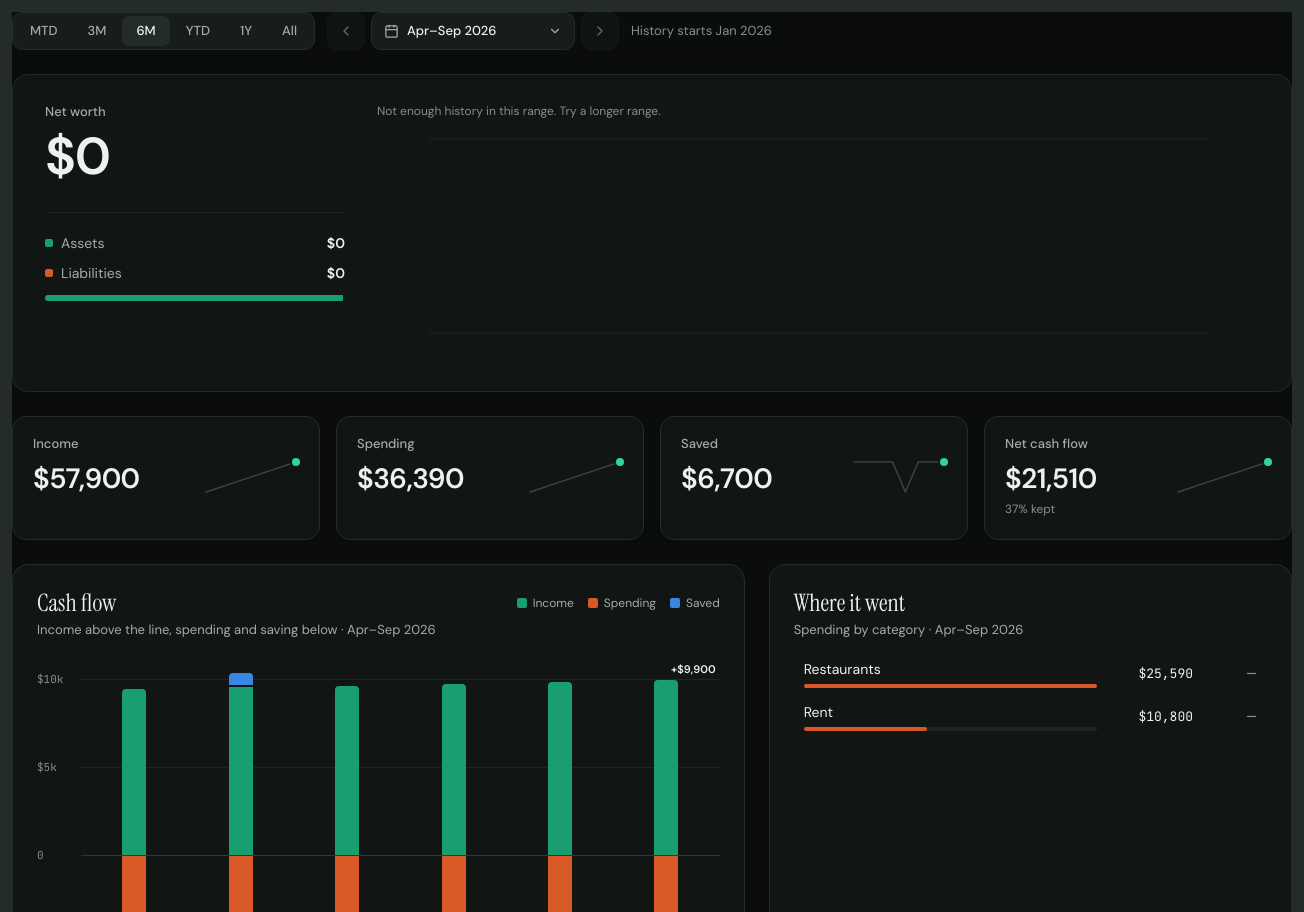
Scenario: AnalyticsView › compares month to date with the same days of the month before
Expected: the heading "Where it went" is shown, top-left (794, 587), bottom-right (905, 618)
Click the button "MTD". click: coordinates (44, 31)
box: top-left (16, 16), bottom-right (72, 46)
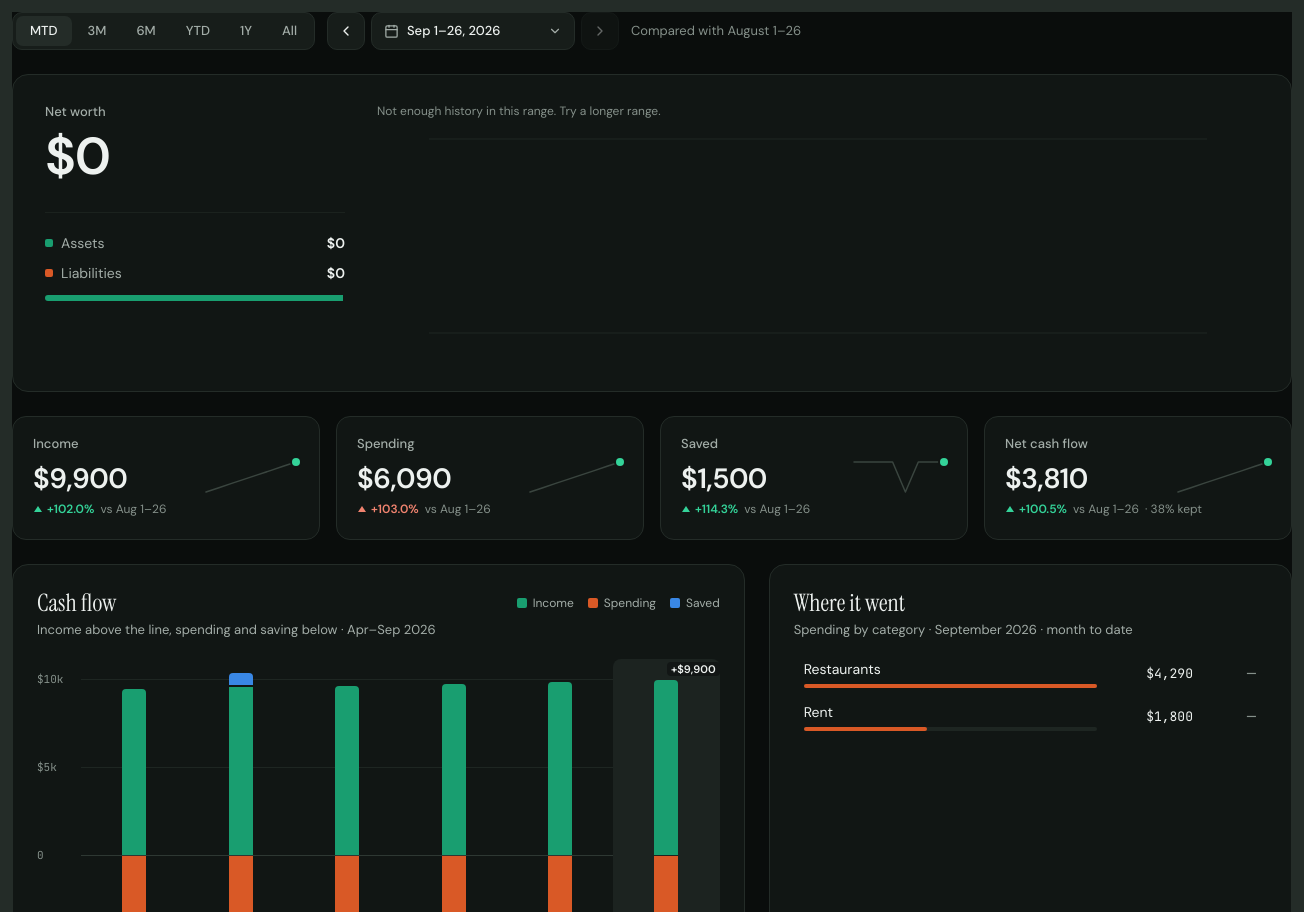
Result: the text "Compared with August 1–26" is shown at top-left (631, 22), bottom-right (801, 40)
Result: the text "vs Aug 1–26" is shown 4 times at top-left (100, 501), bottom-right (166, 517); top-left (425, 501), bottom-right (491, 517); top-left (744, 501), bottom-right (810, 517); top-left (1073, 501), bottom-right (1139, 517)
